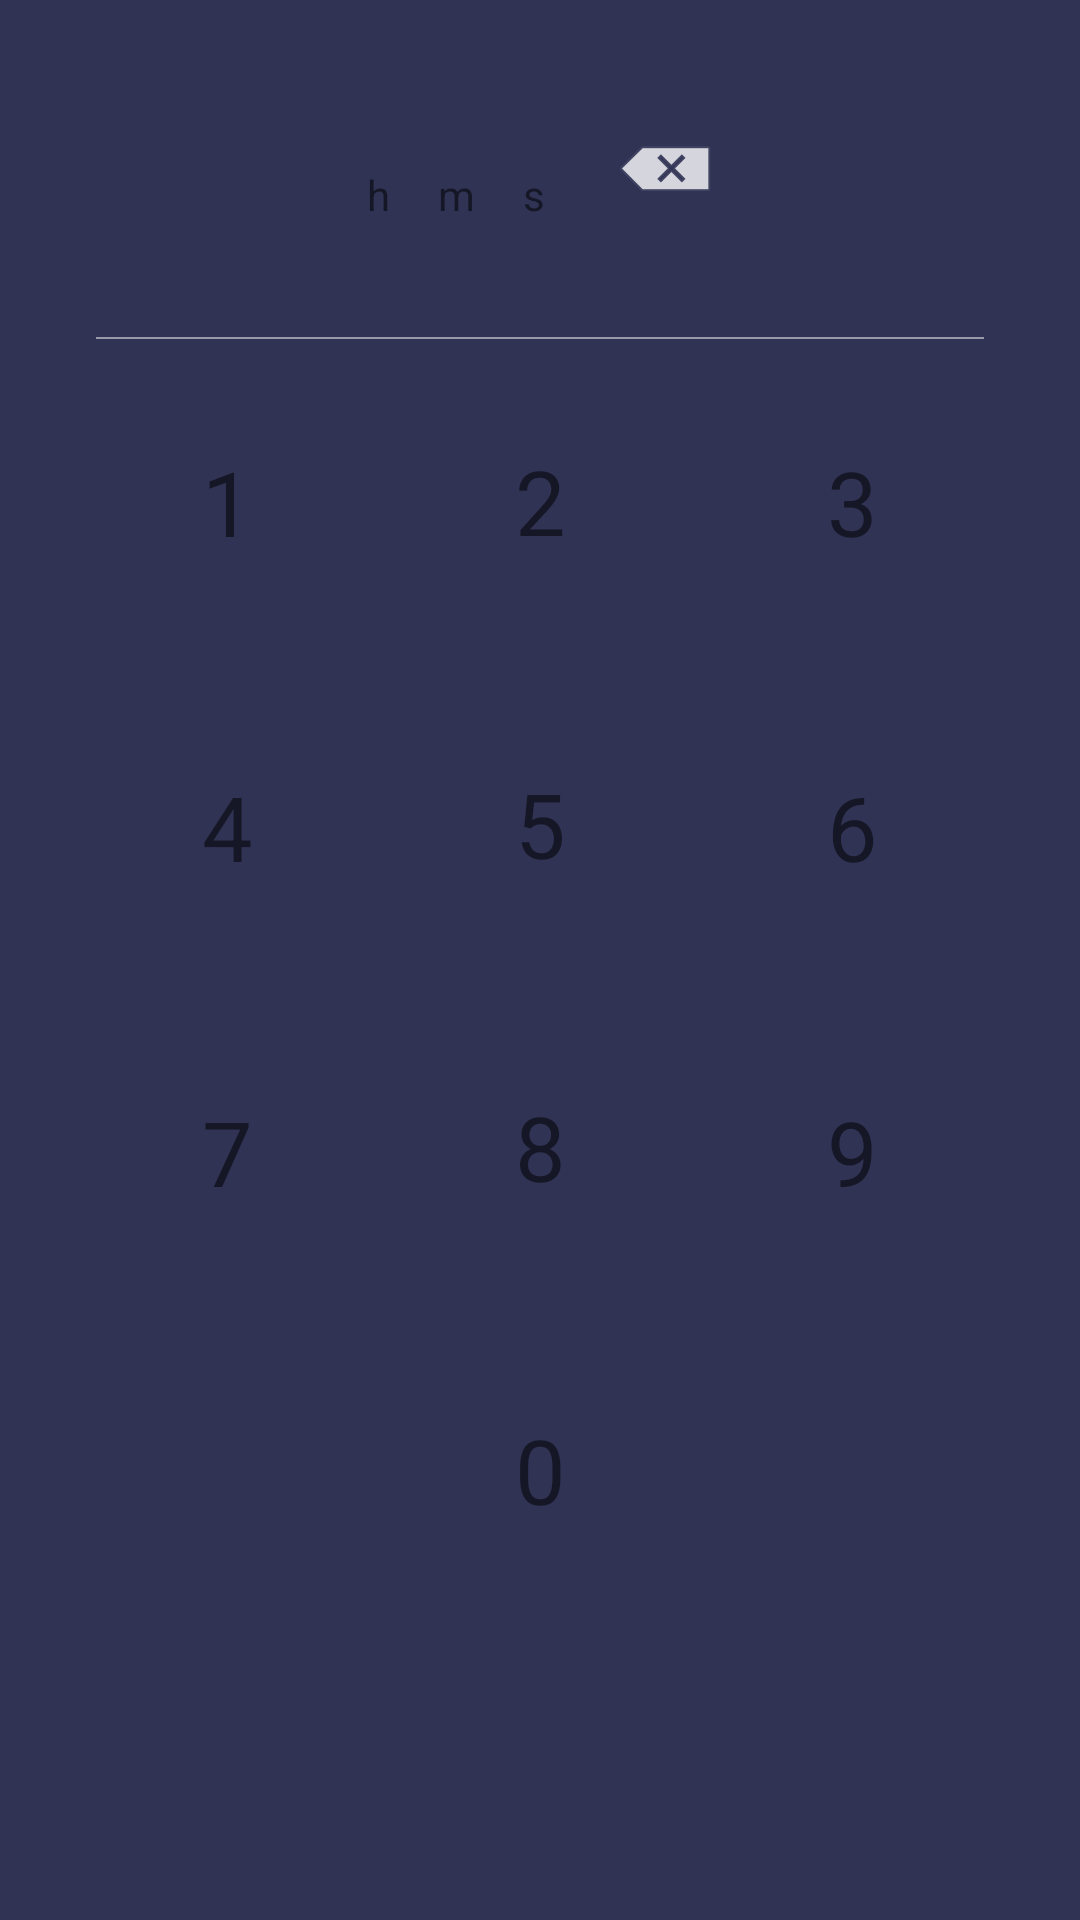

Icon click points for this 1080px×1920px phone screenshot, format (x=x, y=y):
delete: (x=665, y=169)
